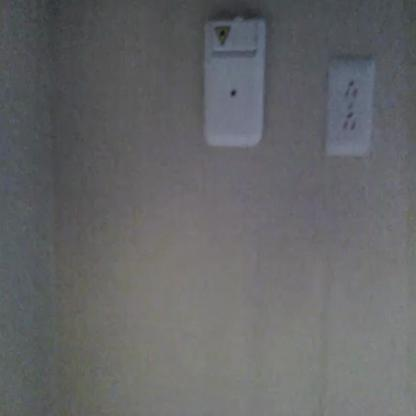OUTLET: (327, 57, 376, 156)
